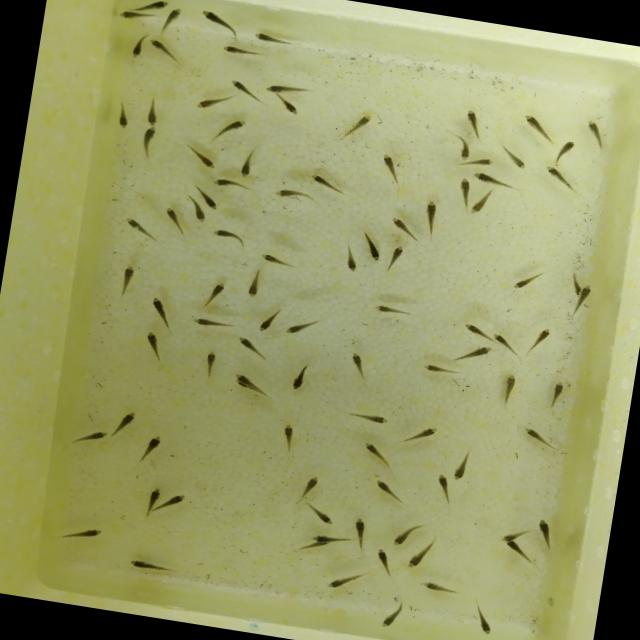fingerling: (192, 7, 245, 38), (302, 170, 356, 197), (338, 109, 382, 142), (450, 340, 496, 370), (518, 109, 555, 146), (540, 164, 584, 194), (507, 265, 547, 296), (144, 37, 184, 67), (388, 520, 424, 553), (376, 152, 408, 189), (228, 78, 266, 109), (458, 109, 496, 140), (466, 600, 498, 636), (470, 170, 522, 192), (66, 522, 110, 548), (271, 186, 318, 210), (119, 213, 160, 240), (372, 479, 411, 507), (215, 114, 248, 147), (181, 146, 219, 174), (250, 31, 300, 52), (218, 41, 268, 62), (108, 96, 134, 136), (546, 136, 578, 168), (233, 333, 268, 362), (258, 250, 304, 272), (372, 300, 418, 322), (458, 150, 500, 174), (194, 87, 232, 113), (325, 568, 363, 594), (348, 406, 392, 428), (359, 442, 396, 468), (582, 118, 612, 150), (116, 260, 140, 300), (506, 540, 540, 568), (416, 360, 466, 379), (238, 144, 264, 180), (408, 539, 436, 572), (262, 80, 308, 100), (419, 198, 442, 238), (124, 555, 170, 575), (356, 233, 385, 264), (243, 266, 266, 305), (528, 323, 556, 355), (460, 320, 496, 344), (189, 313, 237, 331), (137, 430, 164, 462), (156, 489, 190, 514), (377, 601, 402, 635), (210, 227, 250, 248), (147, 293, 171, 328), (335, 244, 363, 274), (420, 578, 460, 599), (519, 426, 557, 448), (498, 146, 530, 172), (297, 474, 323, 506), (496, 373, 521, 406), (114, 7, 157, 26), (210, 176, 258, 193), (282, 316, 316, 340), (288, 361, 312, 395), (140, 328, 164, 362), (162, 205, 191, 233), (350, 512, 370, 552), (531, 516, 556, 548), (490, 334, 526, 356), (135, 125, 158, 159), (75, 427, 109, 450), (202, 278, 228, 308), (144, 482, 164, 521), (385, 215, 418, 238), (451, 132, 476, 162), (412, 422, 442, 447), (276, 95, 308, 118), (471, 188, 494, 220), (276, 422, 300, 452), (114, 407, 138, 437), (433, 472, 453, 507), (257, 306, 281, 335), (347, 352, 372, 379), (124, 30, 145, 62), (312, 530, 351, 547), (574, 284, 592, 320), (185, 198, 209, 225), (452, 450, 472, 482), (144, 95, 163, 128), (547, 380, 567, 410), (454, 177, 472, 210), (374, 546, 396, 572), (498, 526, 528, 545), (192, 188, 220, 208), (387, 243, 404, 274), (166, 4, 183, 34), (306, 508, 334, 526), (145, 0, 179, 13), (204, 351, 220, 376), (234, 373, 260, 387)
